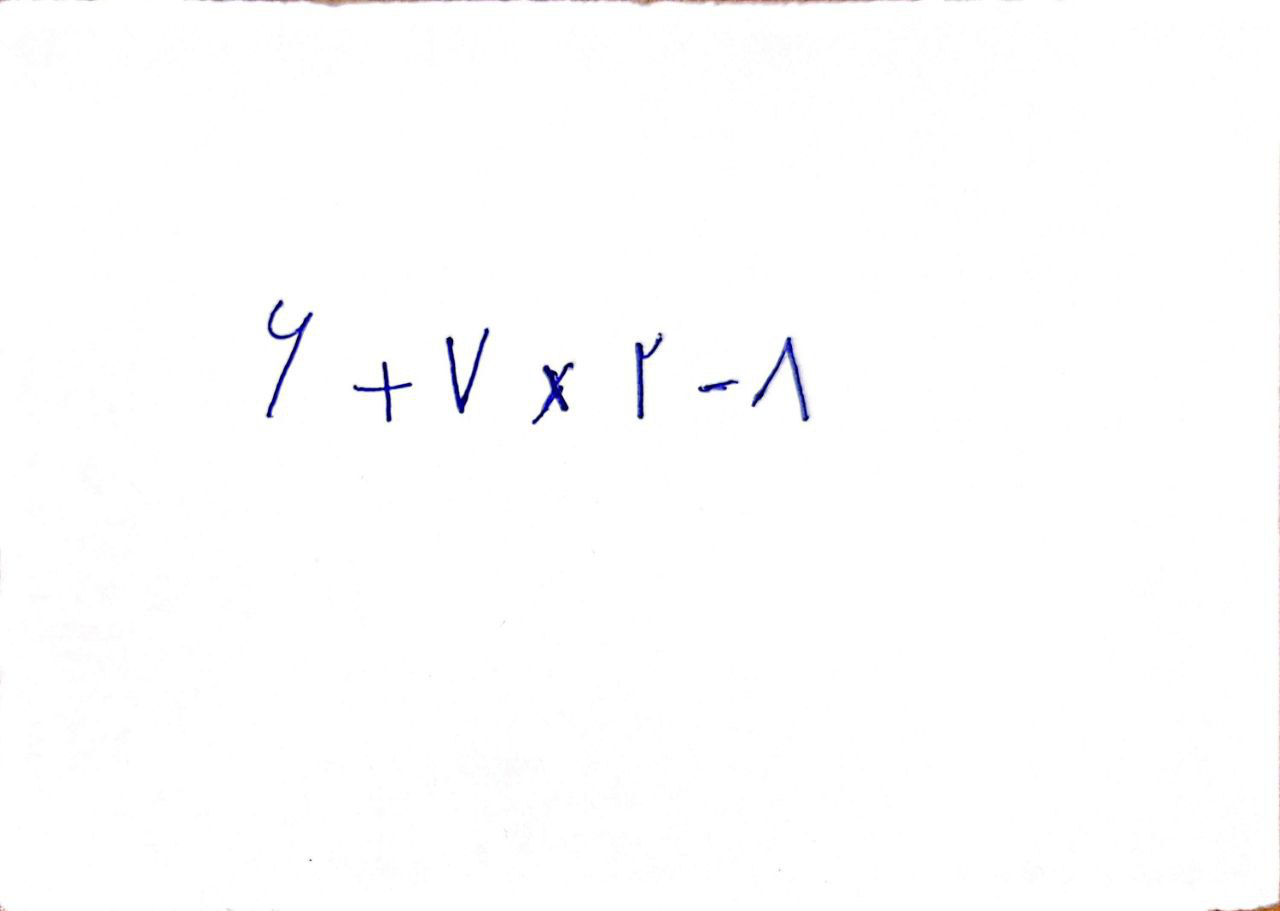character: (261, 299, 314, 421), (751, 335, 817, 422), (445, 324, 490, 419), (351, 361, 413, 424), (528, 359, 576, 429), (631, 333, 662, 421), (694, 374, 739, 395)
